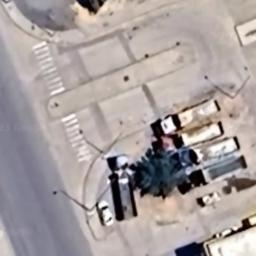sedan: (88, 199, 118, 229)
truck: (154, 98, 224, 136), (152, 120, 223, 154), (183, 154, 249, 190), (110, 155, 144, 223), (176, 135, 242, 170)
